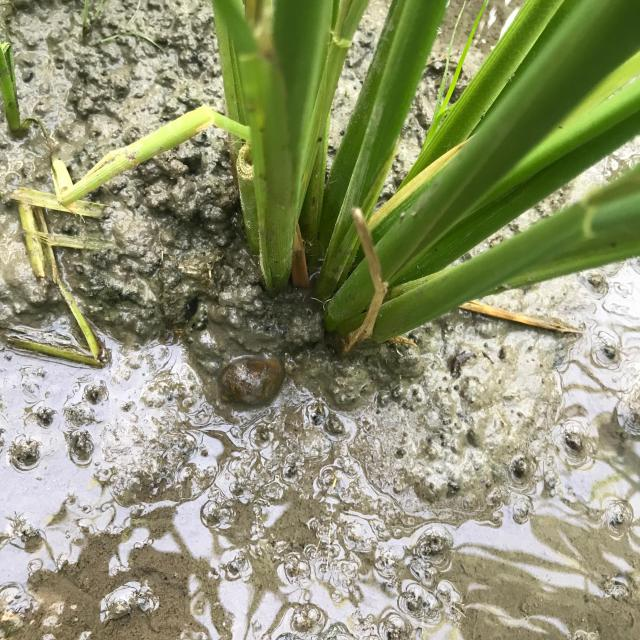rice bug -hama padi-: (186, 300, 289, 415)
